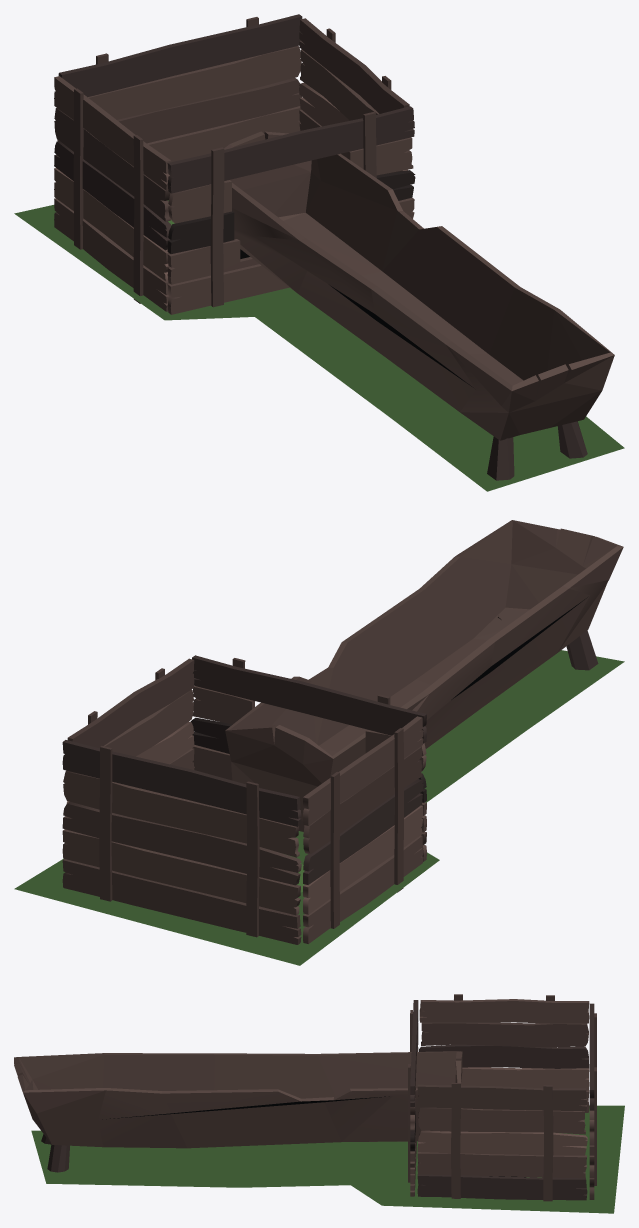
The model's file is SM_Trough.fbx.
3 views of the same model, one above another, from view 1: azimuth 30°, elevation 25°; view 2: azimuth 150°, elevation 25°; view 3: azimuth 270°, elevation 25° (orthographic). The views are drawn at different scales.
Parts seen in each view (by area): view 1: SM_Trough; view 2: SM_Trough; view 3: SM_Trough.
Part boxes in pixels (x1=…): SM_Trough: x1=14, y1=14, x2=624, y2=491; SM_Trough: x1=14, y1=520, x2=624, y2=965; SM_Trough: x1=14, y1=994, x2=624, y2=1213.
Bounding box in the file's own units: 158 × 82.38 × 379.
1 material, 1 textured.
